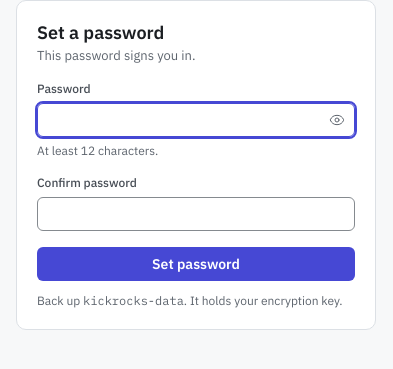
Test: the setup page › rejects passwords that do not match
Type "a long enough password" into the password field labelled "Password". click: (196, 120)
box: [37,103,355,137]
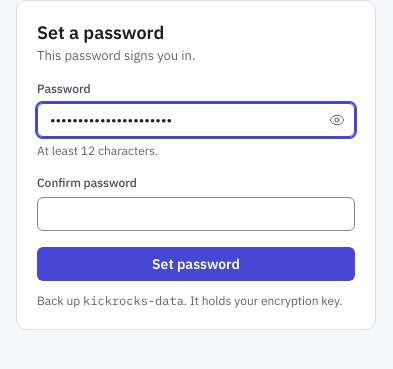
Type "a different long password" into the password field labelled "Confirm password". click: (196, 214)
box: [37,197,355,231]
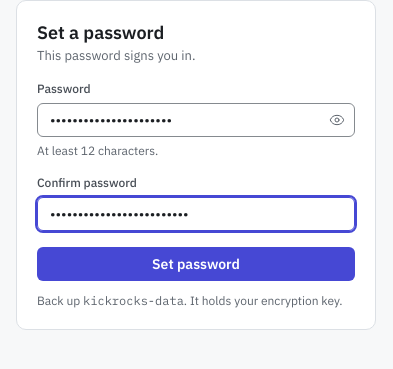
Click the button "Set password". click: (196, 264)
box: [37,247,355,281]
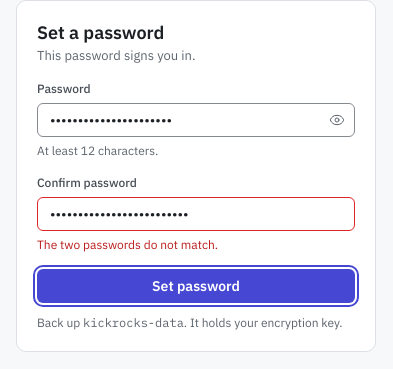
Expected: the text "The two passwords do not match." is shown, [37,237,218,252]
